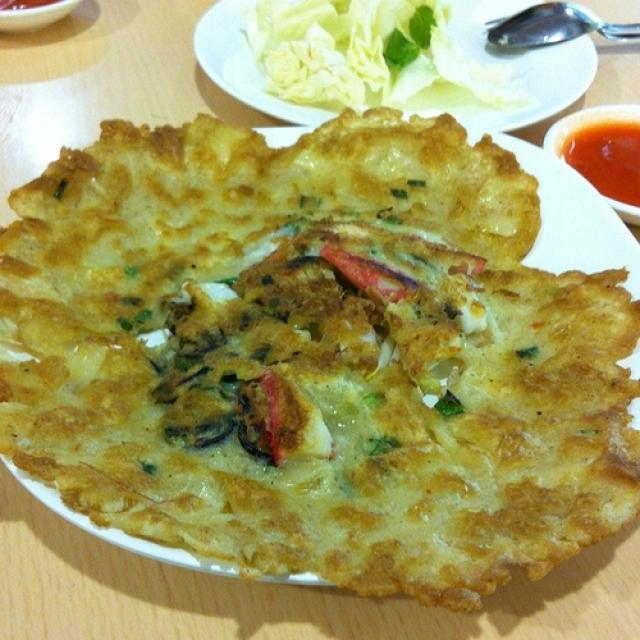炸货点心: (5, 42, 621, 621)
蛋糕甜品: (5, 42, 621, 621)
